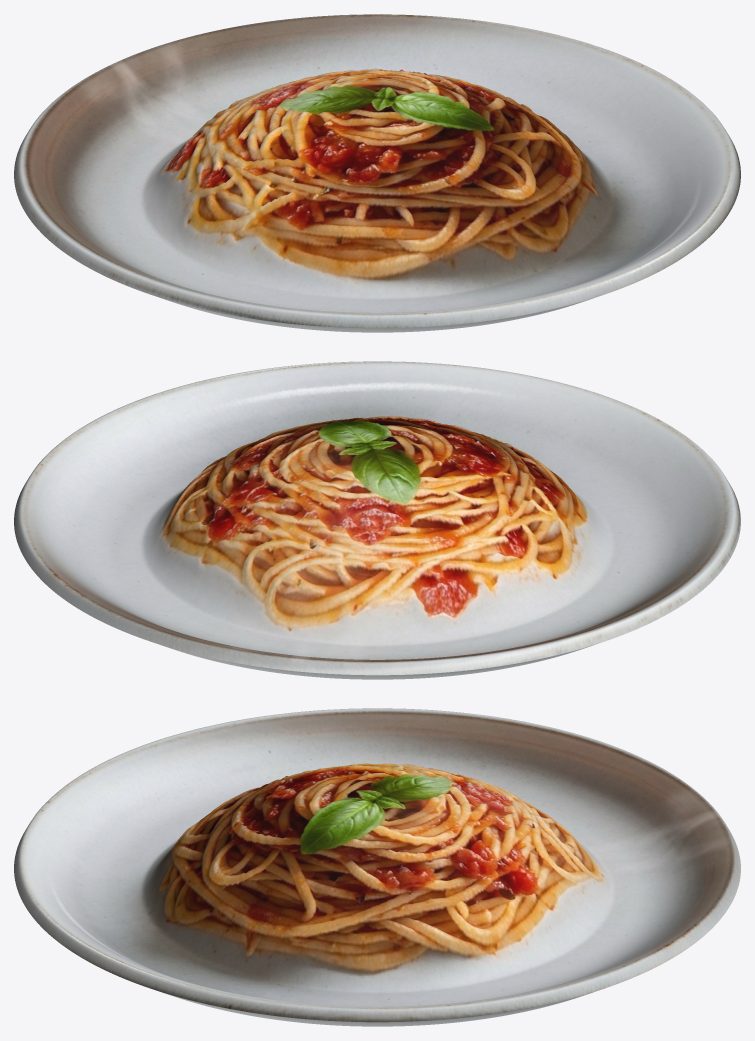
File: spaghetti-pomodoro.glb
3 renders of one model, top to bottom at view 1: azimuth 30°, elevation 25°; view 2: azimuth 150°, elevation 25°; view 3: azimuth 270°, elevation 25°, orthographic.
Visible parts, largest first — view 1: spaghetti-pomodoro; view 2: spaghetti-pomodoro; view 3: spaghetti-pomodoro.
Part boxes in pixels (x1,y1,x2,y2): spaghetti-pomodoro: (14,14,740,332); spaghetti-pomodoro: (14,361,740,679); spaghetti-pomodoro: (14,708,740,1026).
Bounding box in the file's own units: 0.27 × 0.0485 × 0.27.
Materials: 2 (1 with a texture image).
